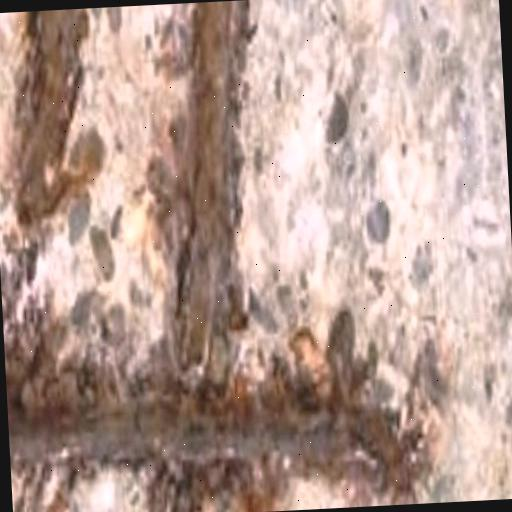spalling: (8, 4, 438, 483), (10, 8, 107, 237)
